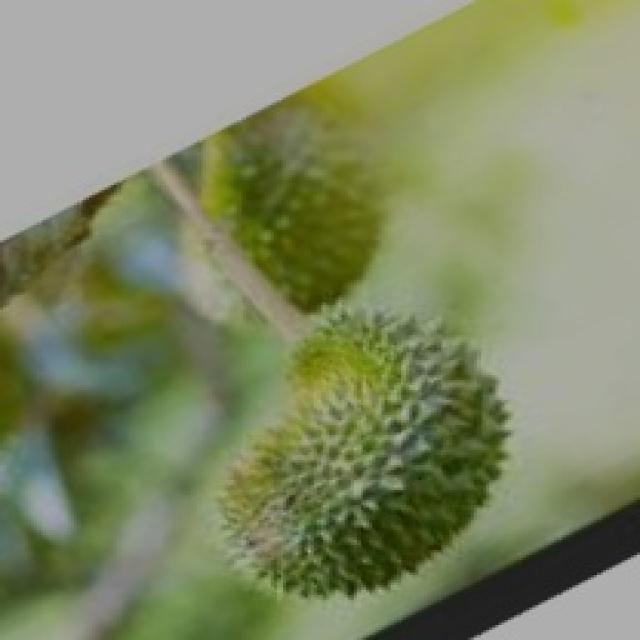fruit: (169, 262, 609, 640)
